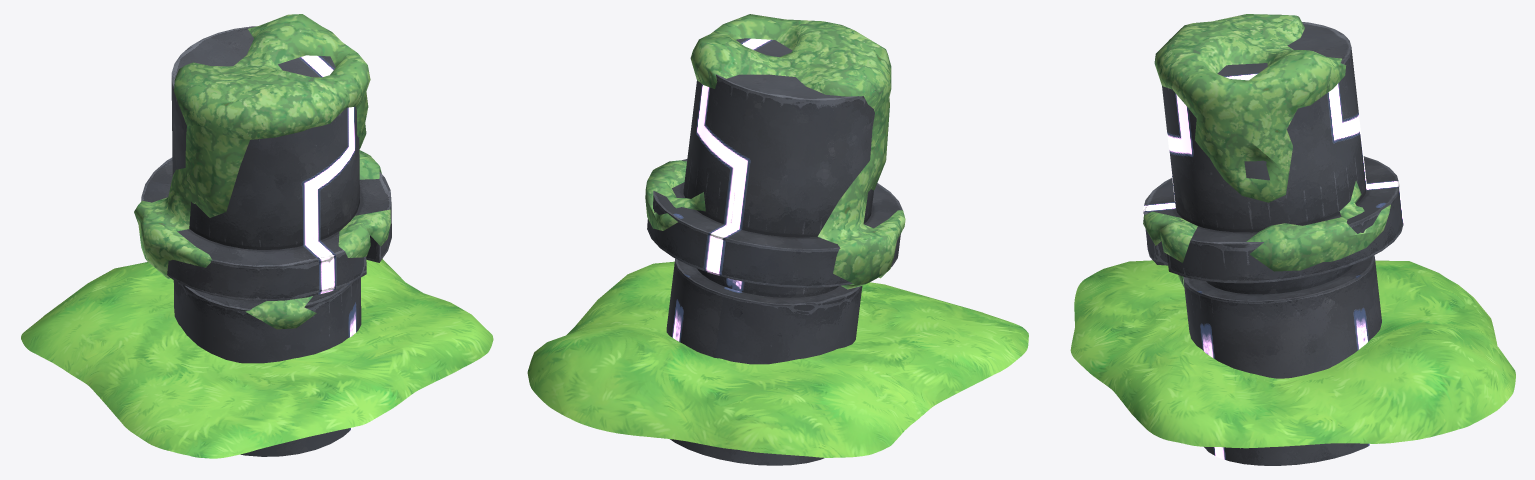
File: Rune_8.fbx
3 views of the same model, side by side, from view 1: azimuth 30°, elevation 25°; view 2: azimuth 150°, elevation 25°; view 3: azimuth 270°, elevation 25° (orthographic). The views are drawn at different scales.
Visible parts, largest first — view 1: rune 8 grass low, rune 8 low, rune 8 moss low; view 2: rune 8 grass low, rune 8 low, rune 8 moss low; view 3: rune 8 grass low, rune 8 low, rune 8 moss low.
Part boxes in pixels (x1,y1,x2,y2): rune 8 grass low: (21, 259, 493, 458); rune 8 low: (141, 26, 391, 456); rune 8 moss low: (134, 14, 390, 329); rune 8 grass low: (527, 261, 1028, 457); rune 8 low: (647, 38, 902, 465); rune 8 moss low: (645, 14, 905, 289); rune 8 grass low: (1070, 260, 1515, 448); rune 8 low: (1143, 22, 1403, 465); rune 8 moss low: (1143, 14, 1390, 286).
Size of the model in its own units: 283 by 279 by 288.
3 materials, 3 textured.
